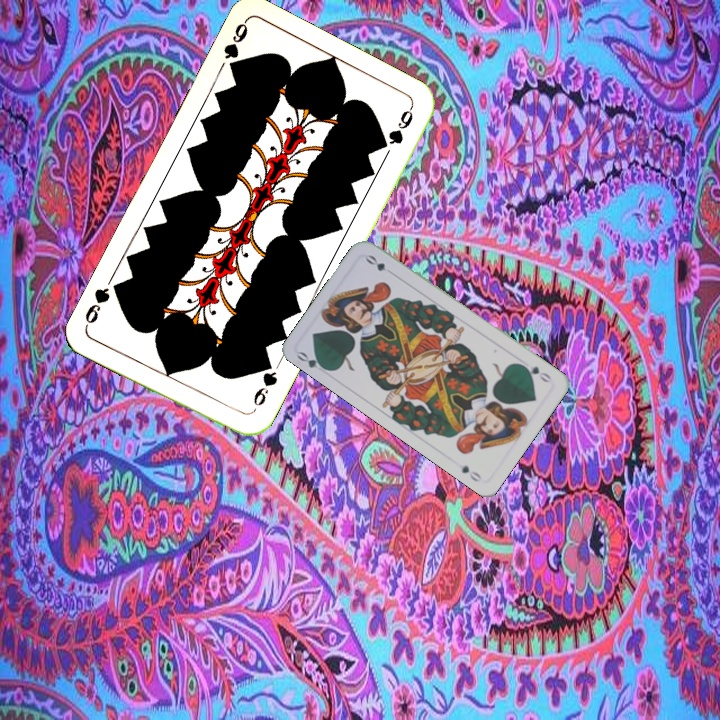G9: (247, 357, 280, 416), (219, 17, 251, 77)
GO: (293, 347, 332, 373), (517, 360, 554, 386)
